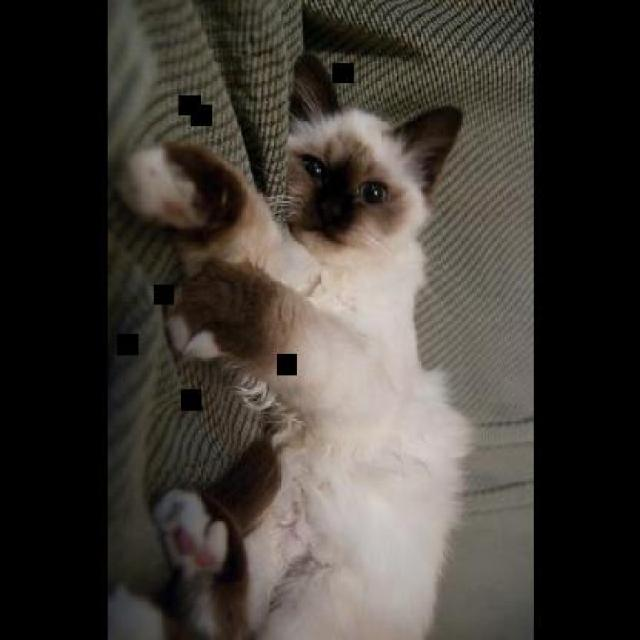unauthorized: (114, 54, 475, 638)
